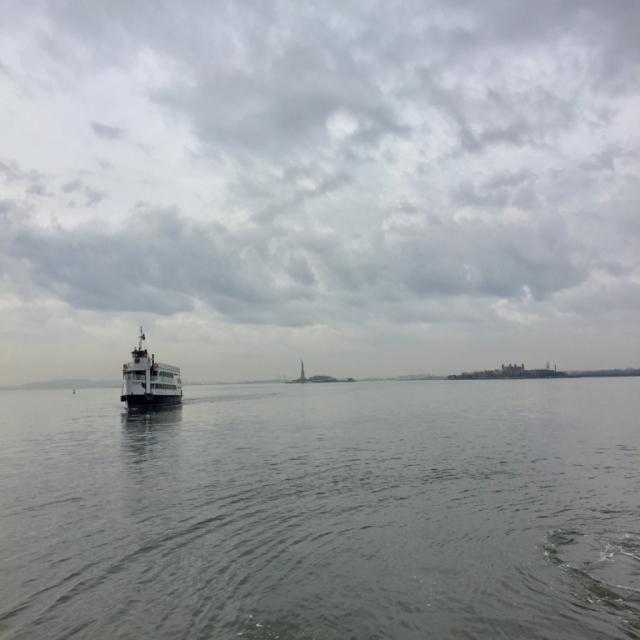passenger ship: (107, 338, 187, 410)
